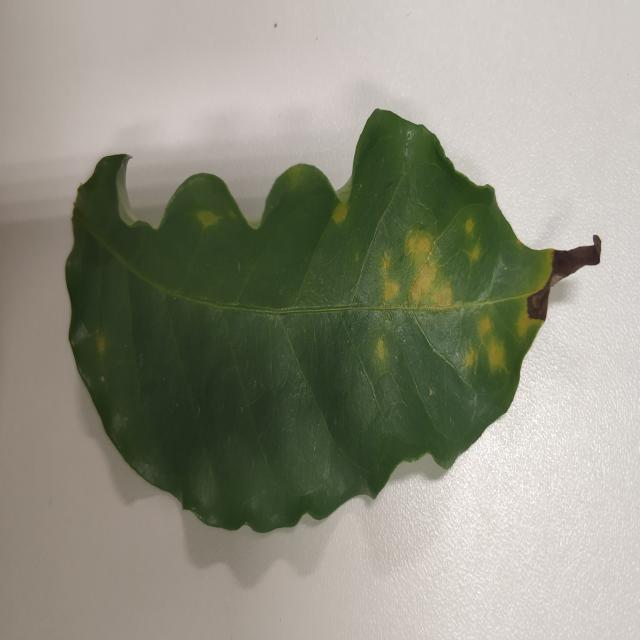Enfermedad-Roya: (63, 110, 603, 537)
